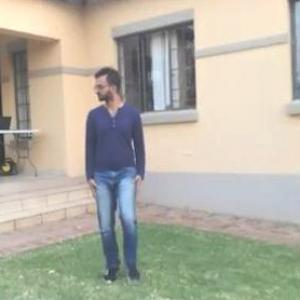follow: (79, 53, 156, 299)
